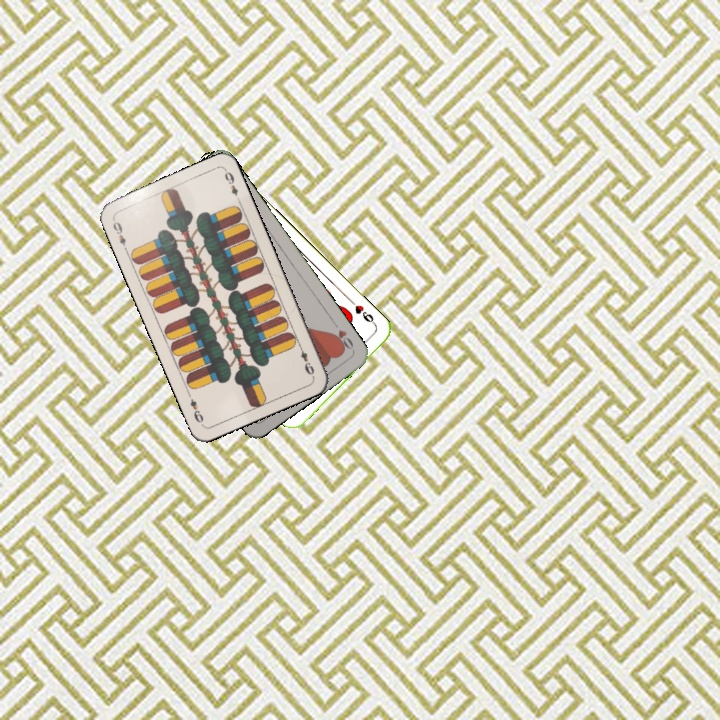E9: (295, 340, 317, 379), (109, 215, 130, 254)
H9: (347, 296, 379, 329)
HO: (328, 317, 356, 353)
